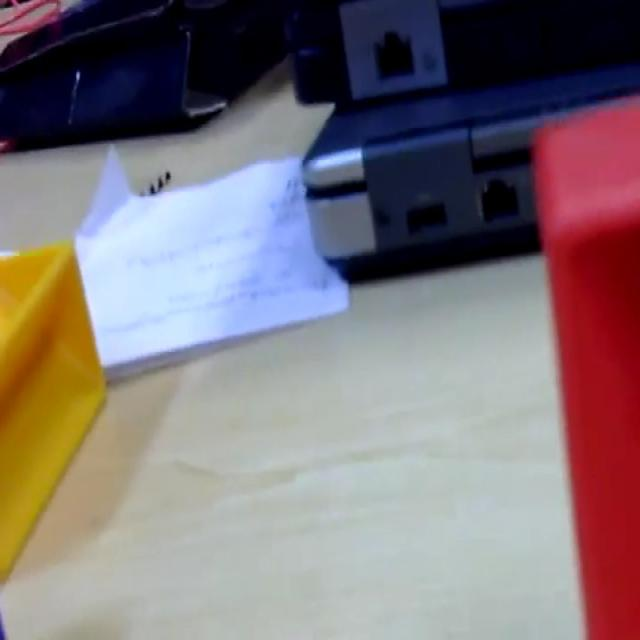red_block: (529, 93, 638, 636)
yellow_block: (0, 238, 107, 582)
